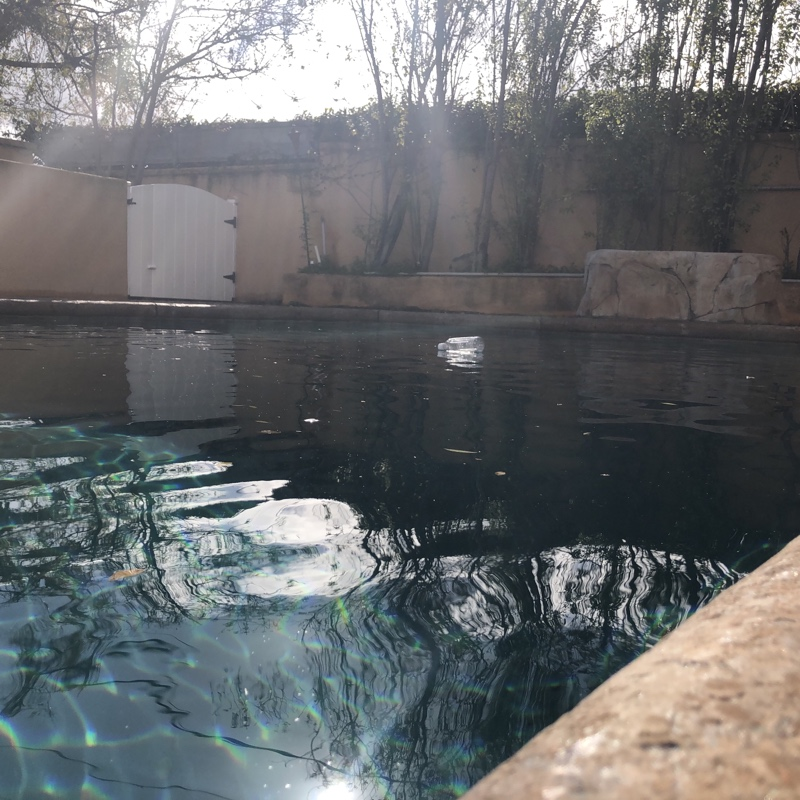Plastic Bottle: (439, 336, 485, 354)
